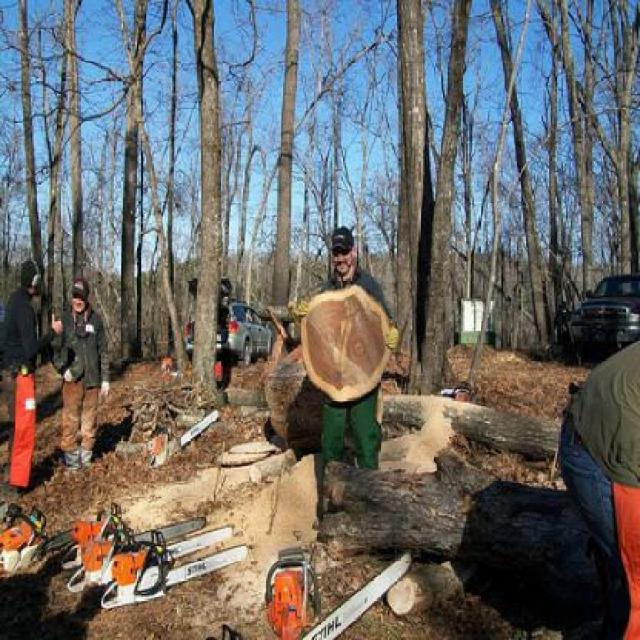Chainsaw: (265, 543, 412, 640), (71, 523, 237, 592), (99, 542, 246, 610), (63, 503, 205, 566), (0, 502, 80, 576), (148, 409, 220, 471)
